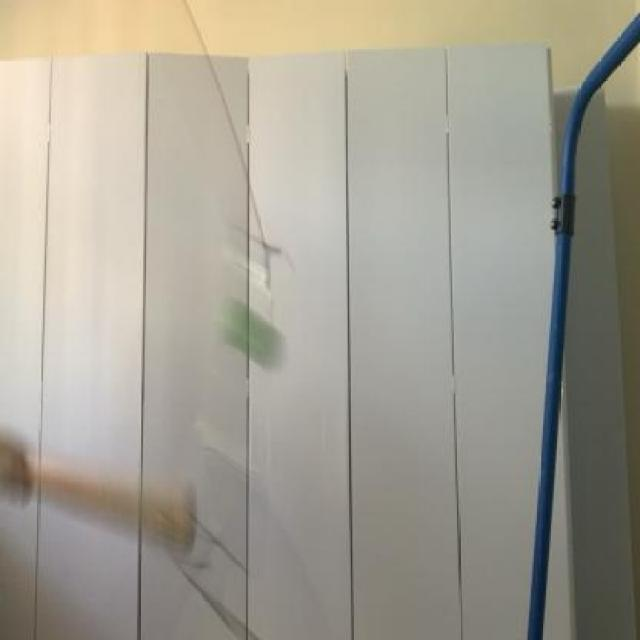baseball: (219, 284, 284, 378)
